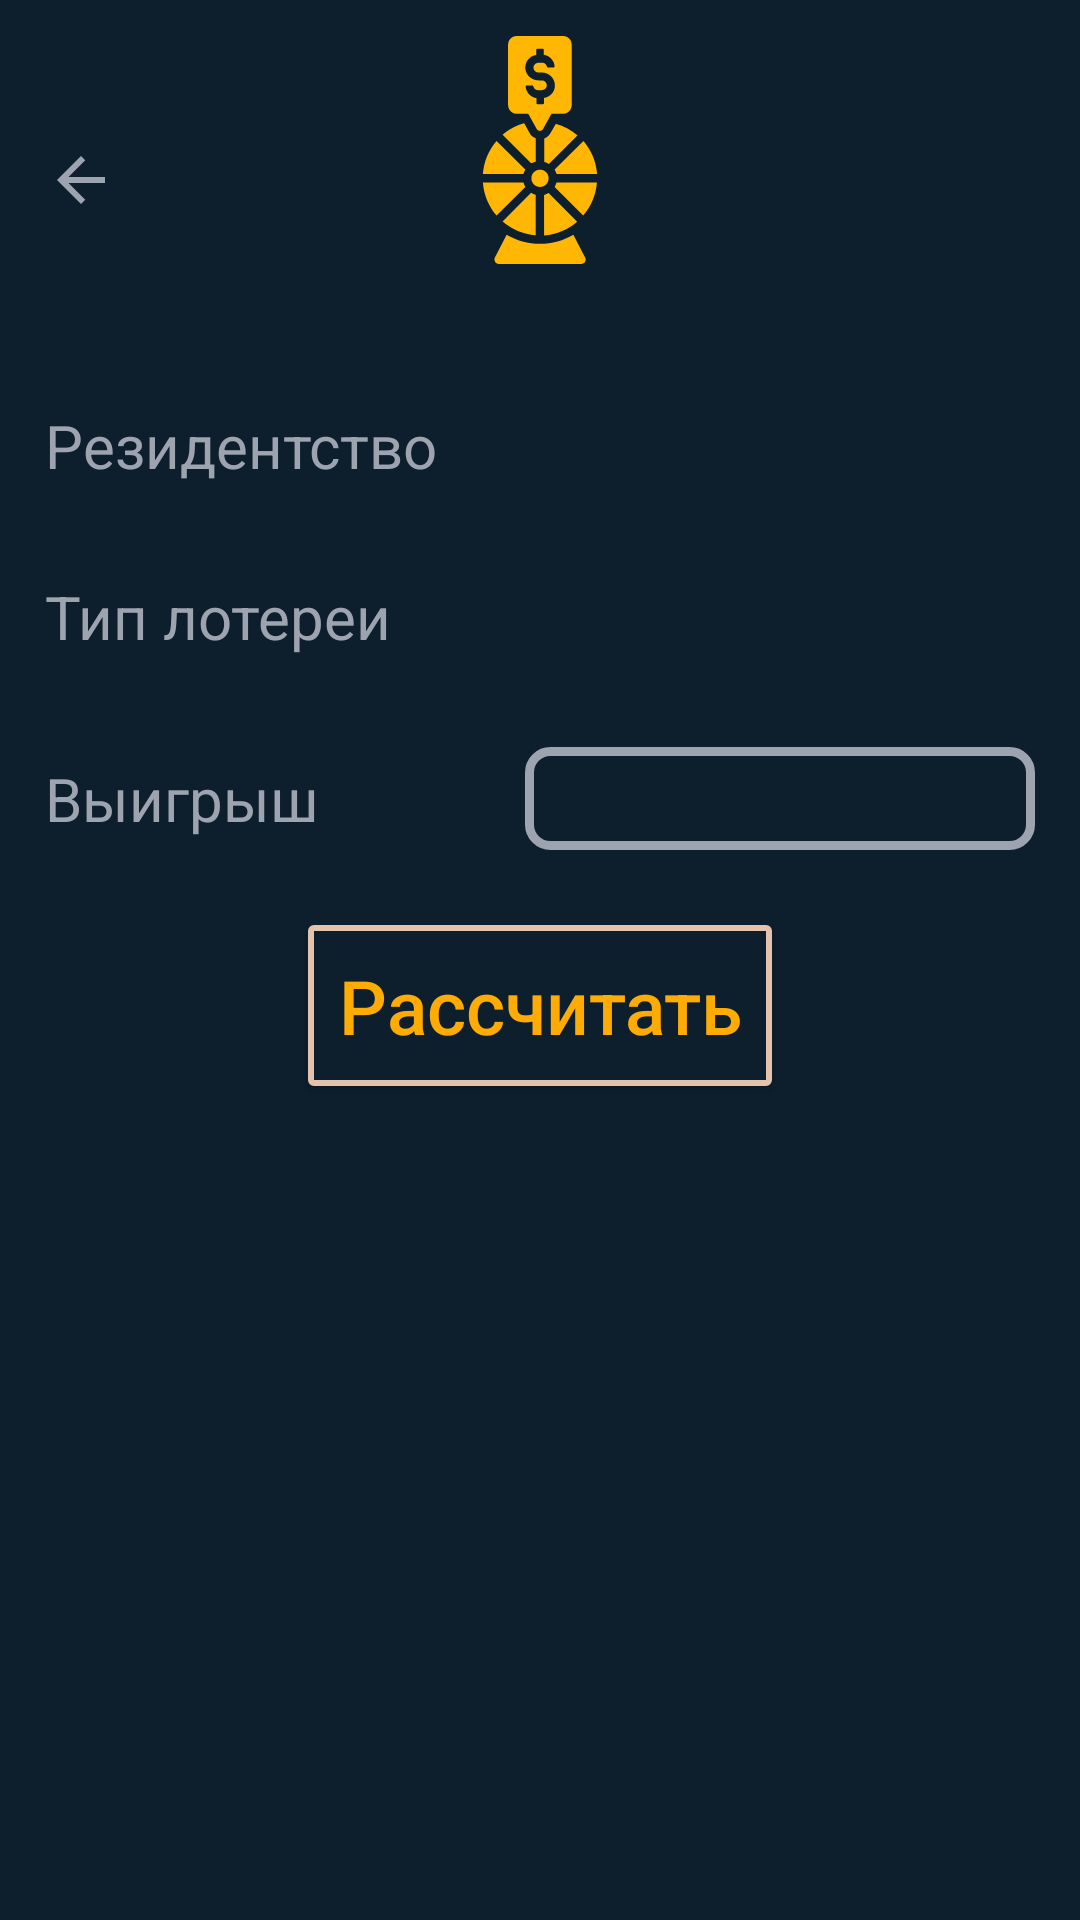

Named icons in this screenshot (1080×1920) and their centers, point (x, y):
arrow back hovered: point (81, 180)
lottery: point (540, 150)
